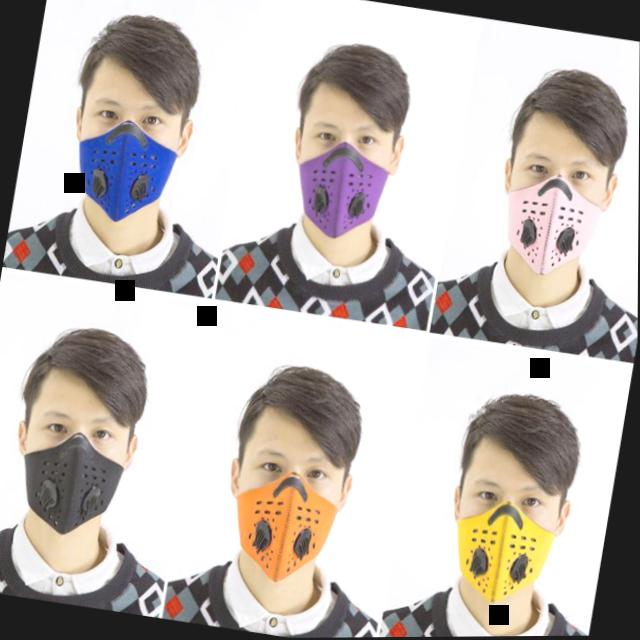Mask: (199, 342, 400, 605), (0, 311, 173, 562), (427, 377, 602, 623), (259, 30, 429, 260), (53, 0, 216, 233), (479, 57, 640, 291)
